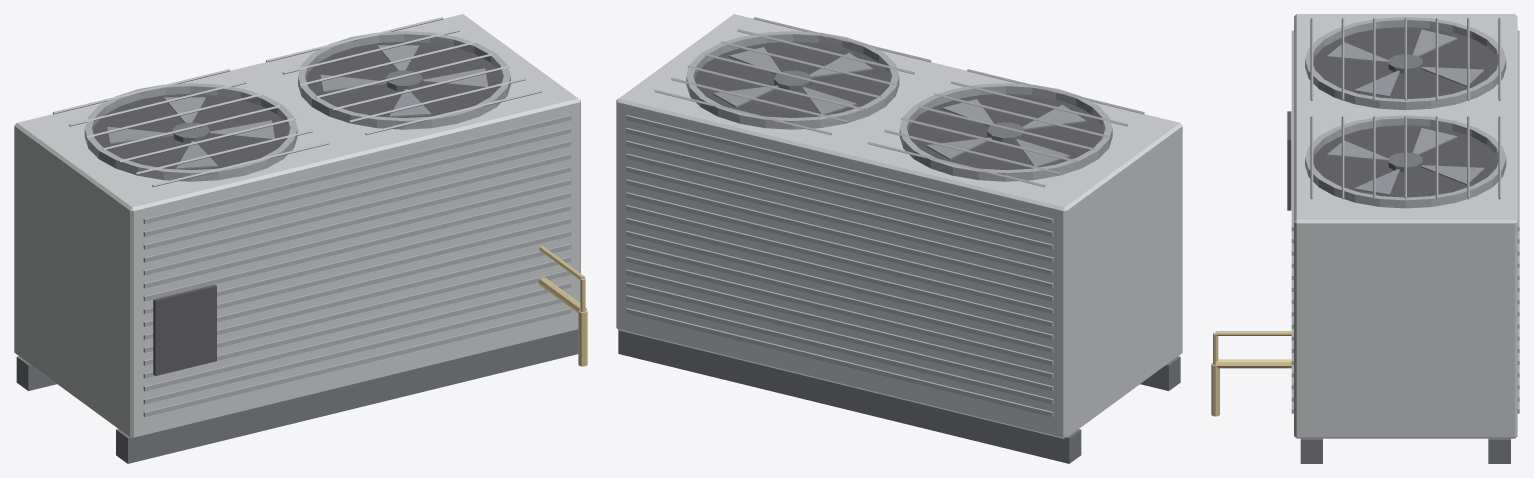
The model's file is ac_unit.glb.
3 views of the same model, side by side, from view 1: azimuth 30°, elevation 25°; view 2: azimuth 150°, elevation 25°; view 3: azimuth 270°, elevation 25° (orthographic). The views are drawn at different scales.
Parts seen in each view (by area): view 1: ac_unit_galv, ac_unit_steel, ac_unit_dark, ac_unit_steel_d, ac_unit_alu_d, ac_unit_brass; view 2: ac_unit_galv, ac_unit_steel, ac_unit_dark, ac_unit_steel_d, ac_unit_alu_d; view 3: ac_unit_galv, ac_unit_steel, ac_unit_dark, ac_unit_alu_d, ac_unit_steel_d, ac_unit_brass.
Boxes of the visible parts, <box> form: ac_unit_galv: <box>14,14,580,438</box>; ac_unit_steel: <box>52,17,571,416</box>; ac_unit_dark: <box>93,41,502,375</box>; ac_unit_steel_d: <box>16,70,578,463</box>; ac_unit_alu_d: <box>107,45,488,169</box>; ac_unit_brass: <box>538,246,587,366</box>; ac_unit_galv: <box>616,14,1182,438</box>; ac_unit_steel: <box>626,17,1144,416</box>; ac_unit_dark: <box>694,41,1104,169</box>; ac_unit_steel_d: <box>618,70,1180,463</box>; ac_unit_alu_d: <box>712,47,1086,166</box>; ac_unit_galv: <box>1294,14,1517,438</box>; ac_unit_steel: <box>1291,17,1519,413</box>; ac_unit_dark: <box>1287,27,1498,210</box>; ac_unit_alu_d: <box>1327,29,1484,195</box>; ac_unit_steel_d: <box>1300,54,1510,463</box>; ac_unit_brass: <box>1211,331,1291,416</box>.
Bounding box in the file's own units: 2.2 × 1.25 × 1.38.
